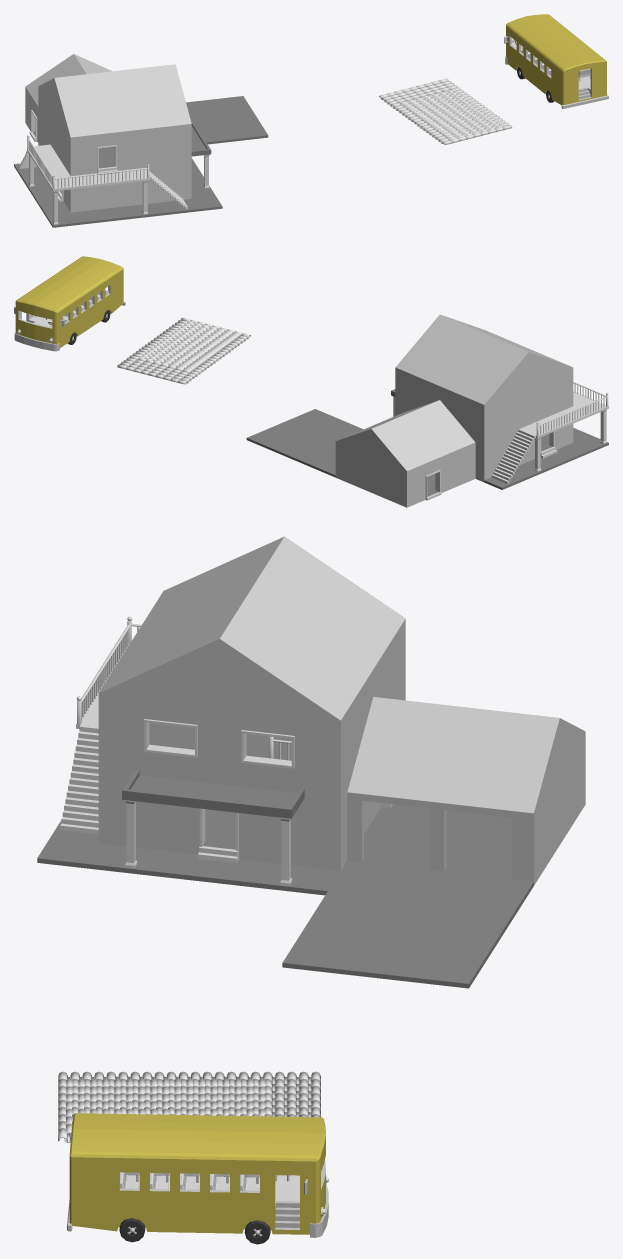
File: Extra.fbx
3 views of the same model, one above another, from view 1: azimuth 30°, elevation 25°; view 2: azimuth 150°, elevation 25°; view 3: azimuth 270°, elevation 25° (orthographic). The views are drawn at different scales.
Visible parts, largest first — view 1: House.096, House.098, School Bus.000, House.099, House.114, House.101, House.106; view 2: House.098, House.096, House.114, School Bus.000, House.099, House.101, House.105; view 3: House.098, House.096, House.114, School Bus.000, House.099, House.101, House.106.
Part boxes in pixels (<box>): House.096: <box>14,87,222,227</box>; House.098: <box>25,54,191,137</box>; School Bus.000: <box>504,14,608,108</box>; House.099: <box>379,78,512,144</box>; House.114: <box>25,87,268,144</box>; House.101: <box>400,89,505,139</box>; House.106: <box>55,168,147,187</box>; House.098: <box>336,314,572,470</box>; House.096: <box>391,367,608,489</box>; House.114: <box>246,409,475,507</box>; School Bus.000: <box>14,256,125,351</box>; House.099: <box>117,318,250,384</box>; House.101: <box>136,320,241,370</box>; House.105: <box>539,396,606,434</box>; House.098: <box>99,536,585,813</box>; House.096: <box>37,619,405,895</box>; House.114: <box>282,732,585,988</box>; School Bus.000: <box>67,1113,329,1244</box>; House.099: <box>58,1071,320,1142</box>; House.101: <box>66,1078,265,1134</box>; House.106: <box>81,624,130,719</box>.
Size of the model in its own units: 5051 by 980 by 2188.
